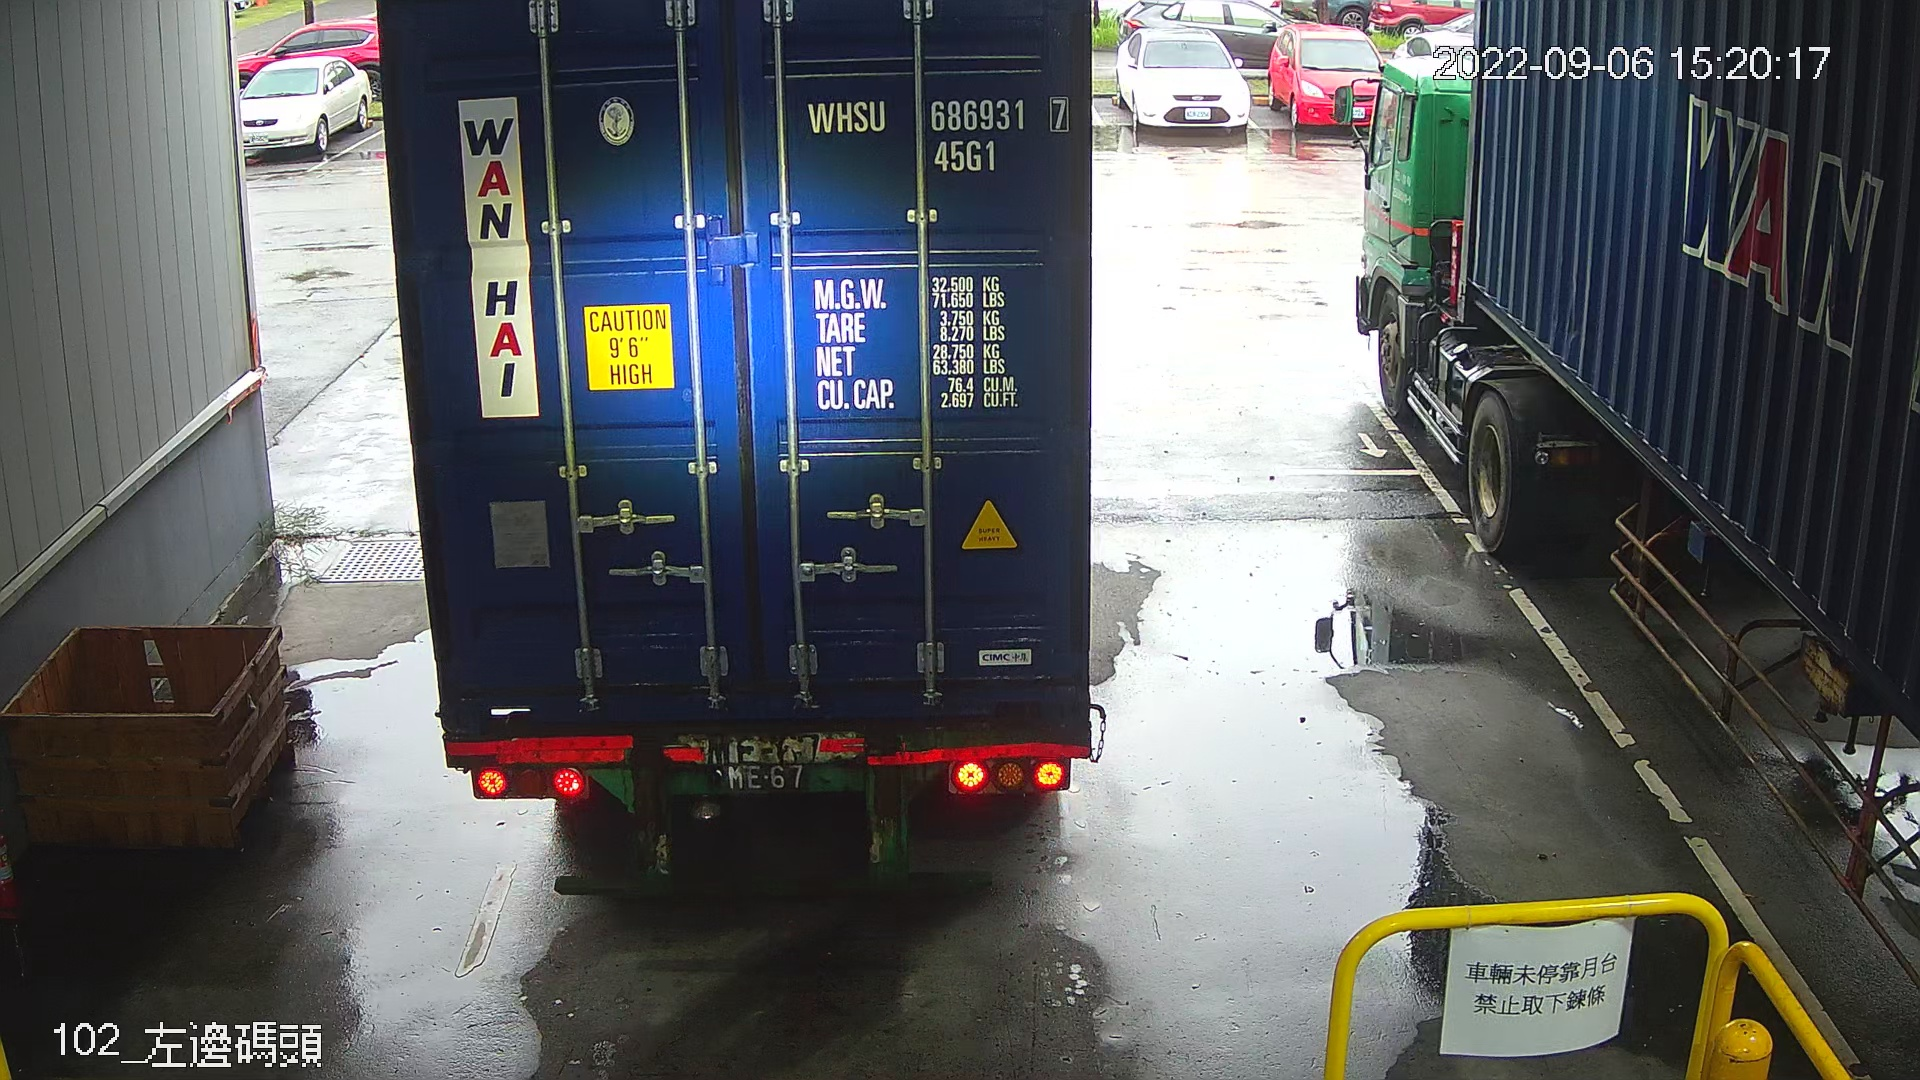container: (796, 88, 1083, 179)
